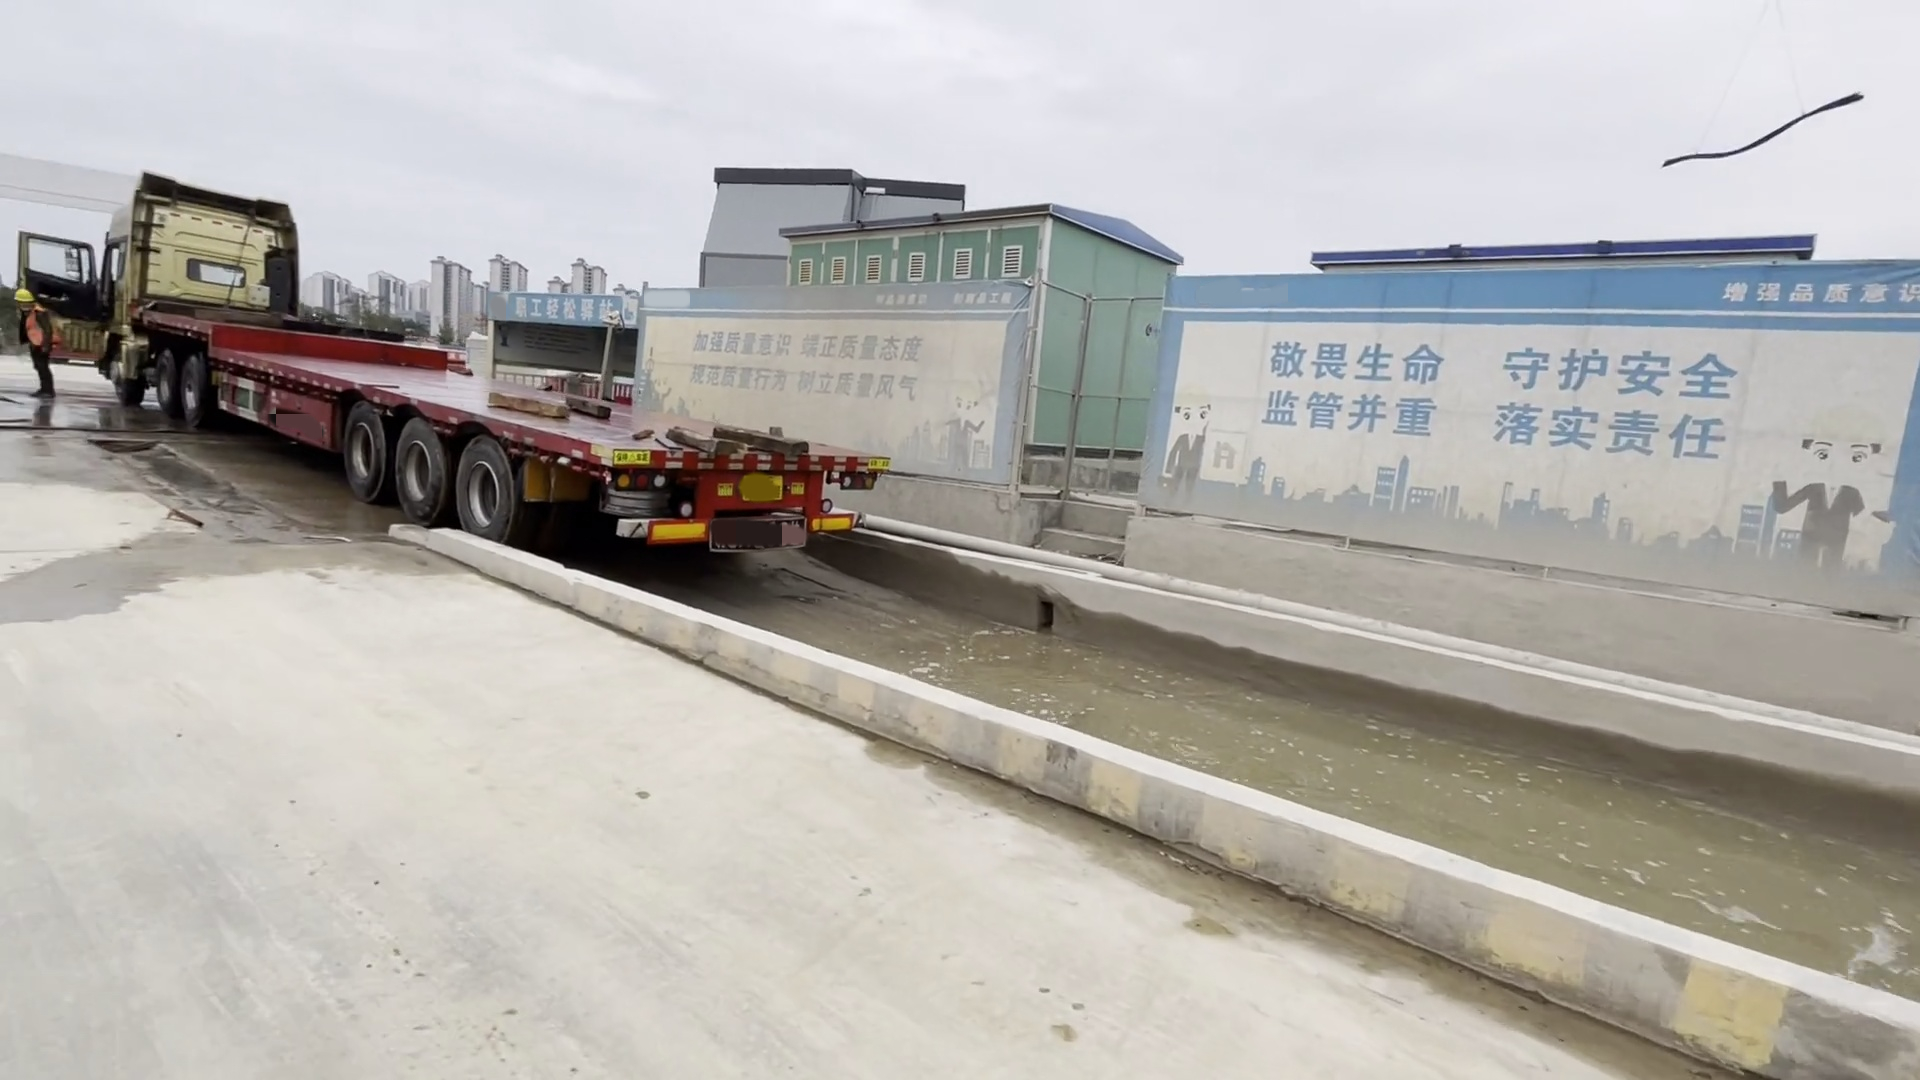helmet: (12, 289, 38, 302)
person: (6, 285, 69, 408)
slogan: (1254, 334, 1734, 478), (691, 320, 945, 422), (1712, 274, 1920, 334)
vest: (16, 306, 62, 352)
